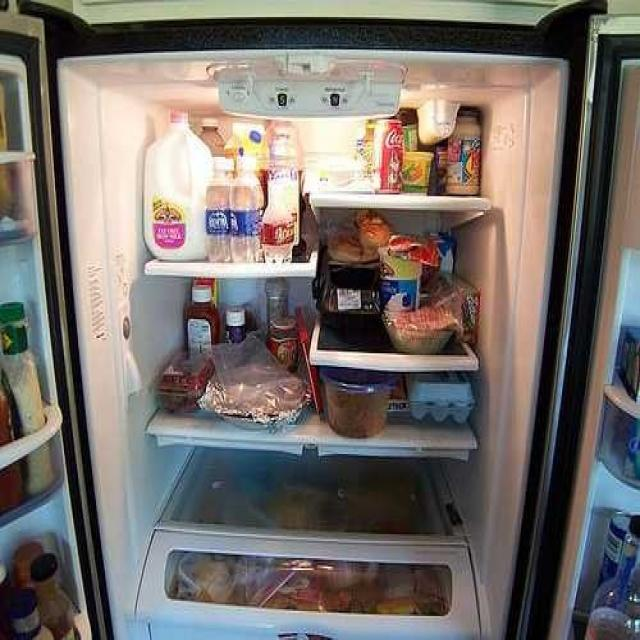refrigerator: (0, 2, 575, 638)
